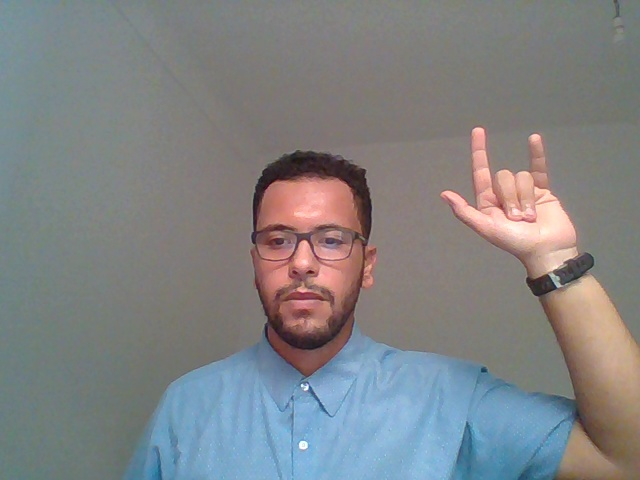iloveyou: (429, 97, 589, 356)
